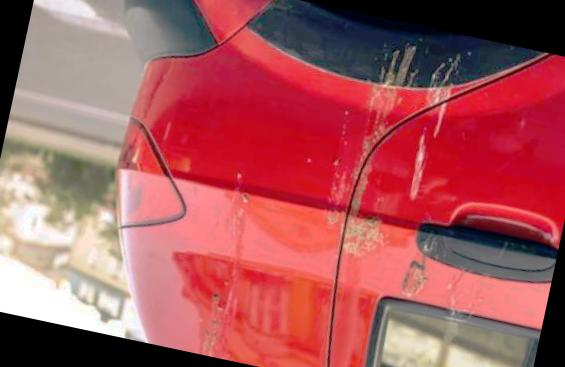Bird Poop: (326, 46, 416, 255), (199, 172, 248, 357), (435, 270, 480, 367), (426, 55, 458, 136), (400, 231, 437, 296), (409, 135, 423, 197), (330, 170, 356, 200)
